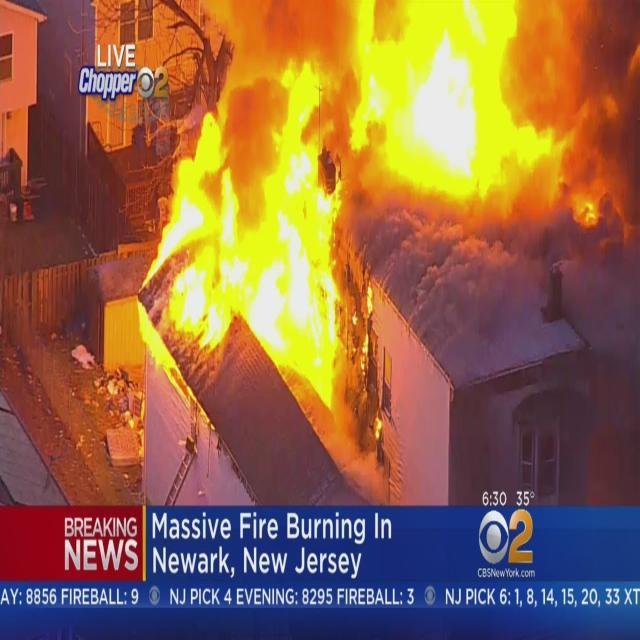Fire: (136, 62, 342, 416), (352, 0, 520, 182)
Smoke: (525, 11, 640, 345), (346, 184, 520, 370)
